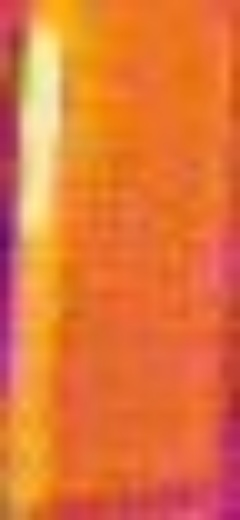Diode: (16, 7, 66, 277)
